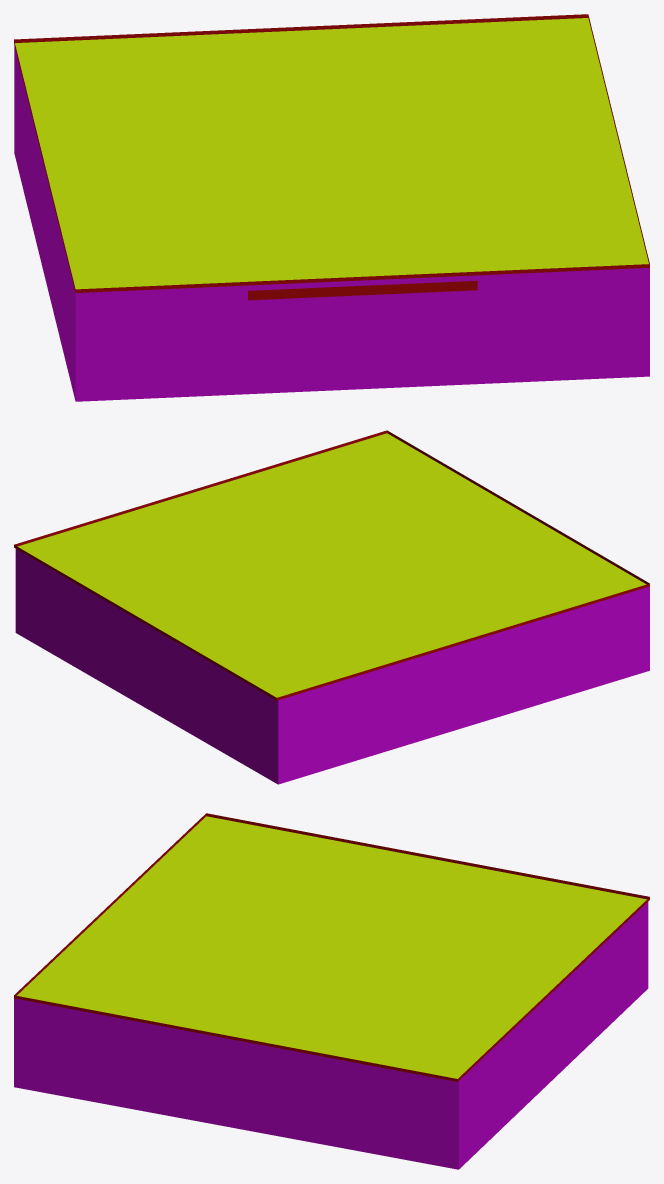
Rendered from bgj_34.glb.
The picture shows the model from 3 angles, top to bottom: view 1: azimuth 30°, elevation 25°; view 2: azimuth 150°, elevation 25°; view 3: azimuth 270°, elevation 25°; orthographic projection. The views are drawn at different scales.
Visible parts, largest first — view 1: bgj_34; view 2: bgj_34; view 3: bgj_34.
Part boxes in pixels (x1,y1,x2,y2): bgj_34: (14, 14, 649, 401); bgj_34: (14, 430, 649, 784); bgj_34: (14, 813, 649, 1169).
Size of the model in its own units: 65.7 by 10.59 by 66.44.
